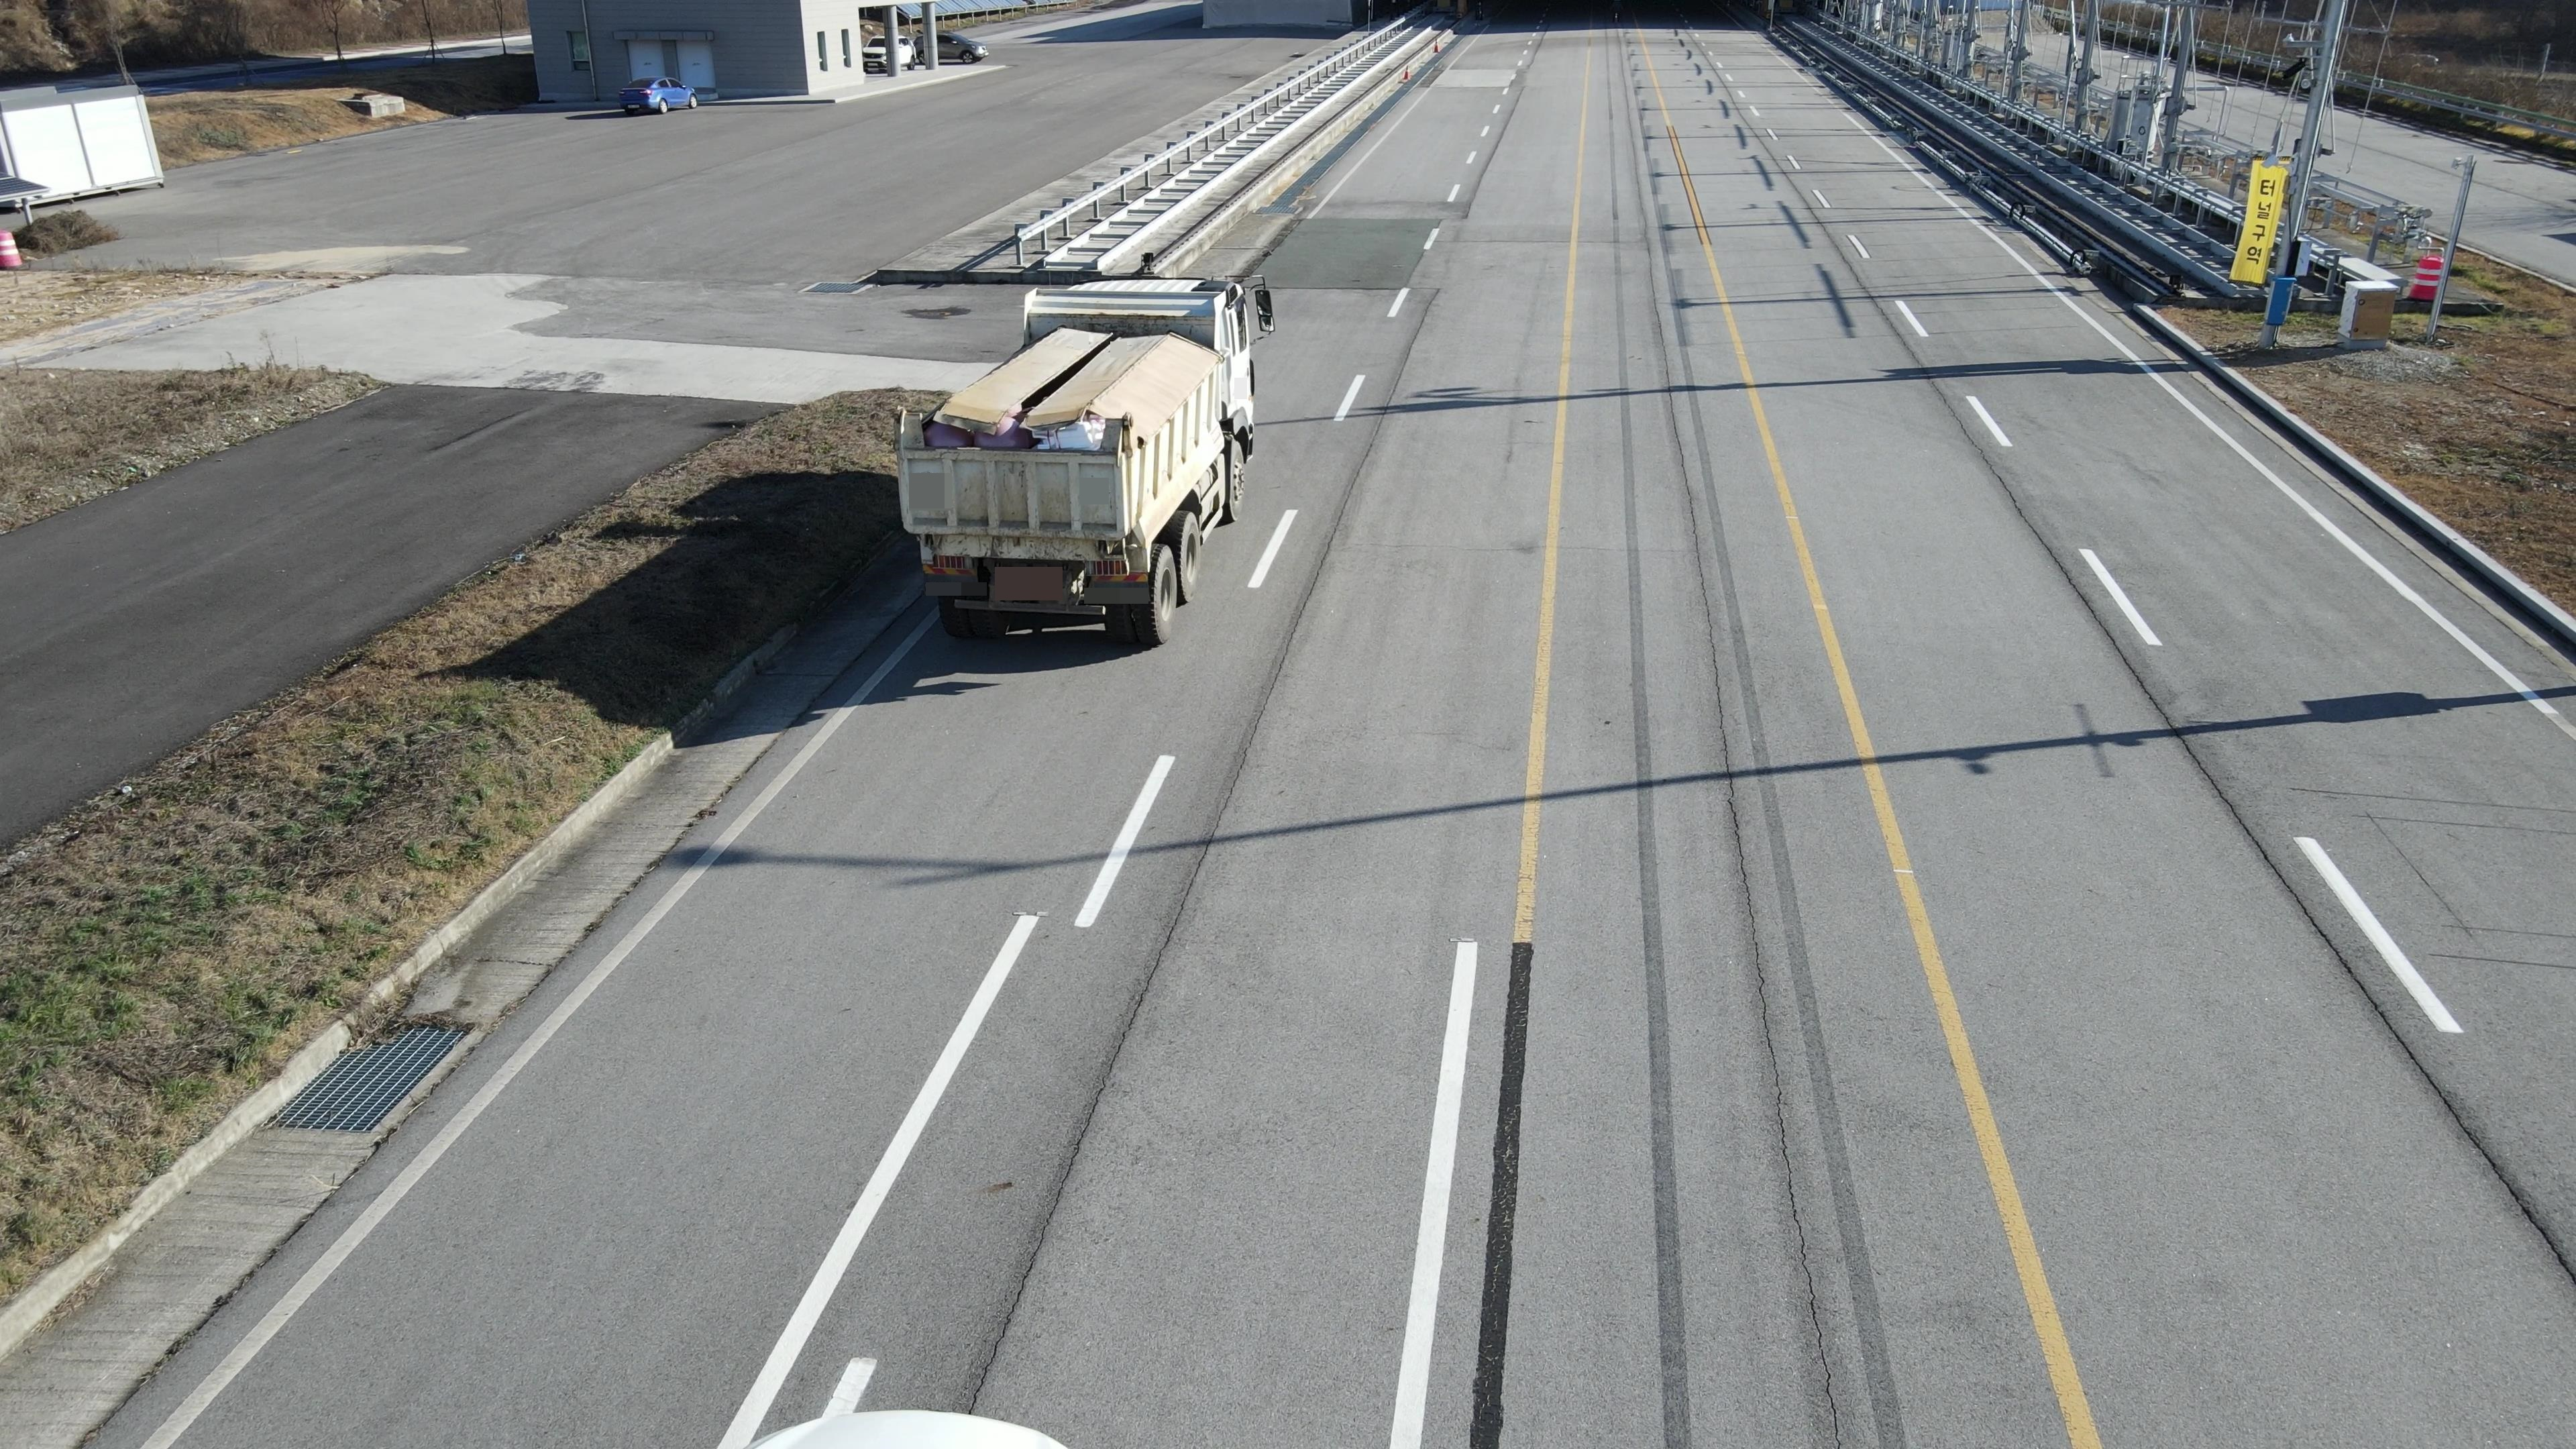불법차량: (891, 274, 1275, 644)
